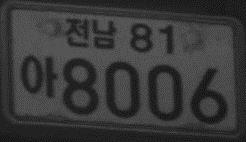0: (146, 63, 185, 122), (103, 60, 141, 119)
1: (156, 23, 178, 55)
6: (189, 67, 229, 125)
8: (61, 56, 99, 115), (129, 22, 154, 53)
아: (20, 54, 58, 98)
전남_H: (64, 16, 117, 50)
